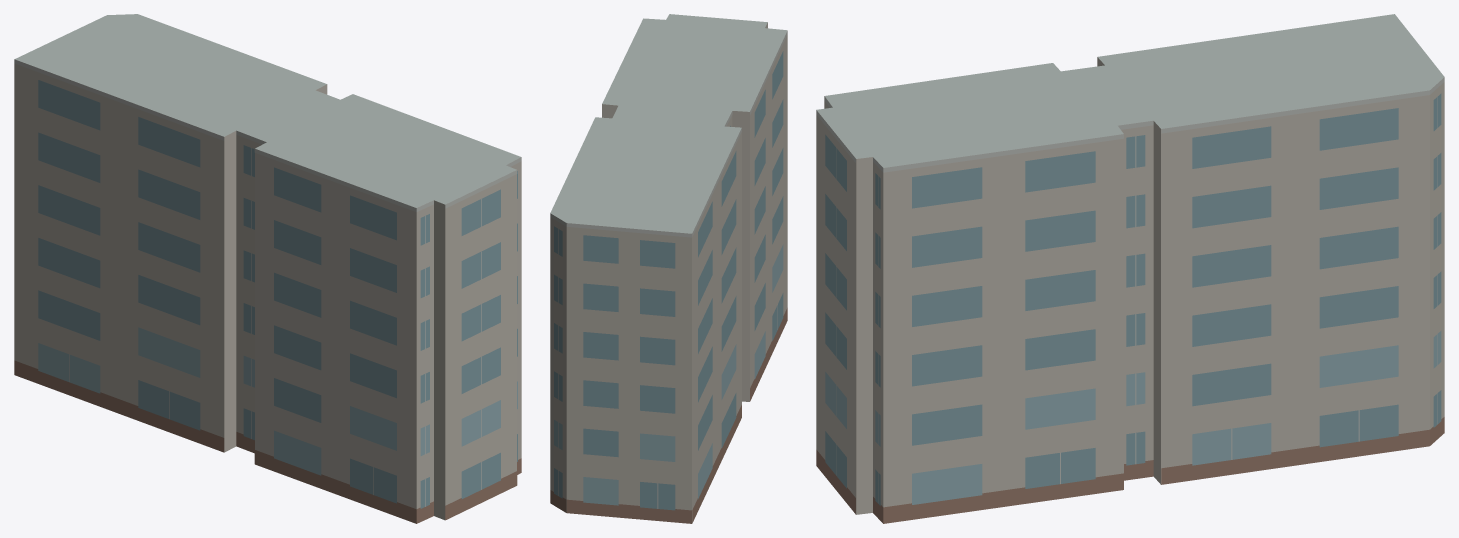
The model's file is survey-upis-32568867.glb.
The picture shows the model from 3 angles, left to right: view 1: azimuth 30°, elevation 25°; view 2: azimuth 150°, elevation 25°; view 3: azimuth 270°, elevation 25°; orthographic projection. The views are drawn at different scales.
Parts seen in each view (by area): view 1: survey-upis-32568867.tmp; view 2: survey-upis-32568867.tmp; view 3: survey-upis-32568867.tmp.
Boxes of the visible parts, x1,y1,x2,y2 form: survey-upis-32568867.tmp: (14,14,521,523); survey-upis-32568867.tmp: (550,14,787,523); survey-upis-32568867.tmp: (816,14,1444,523).
Size of the model in its own units: 17.37 by 18.7 by 29.94.
